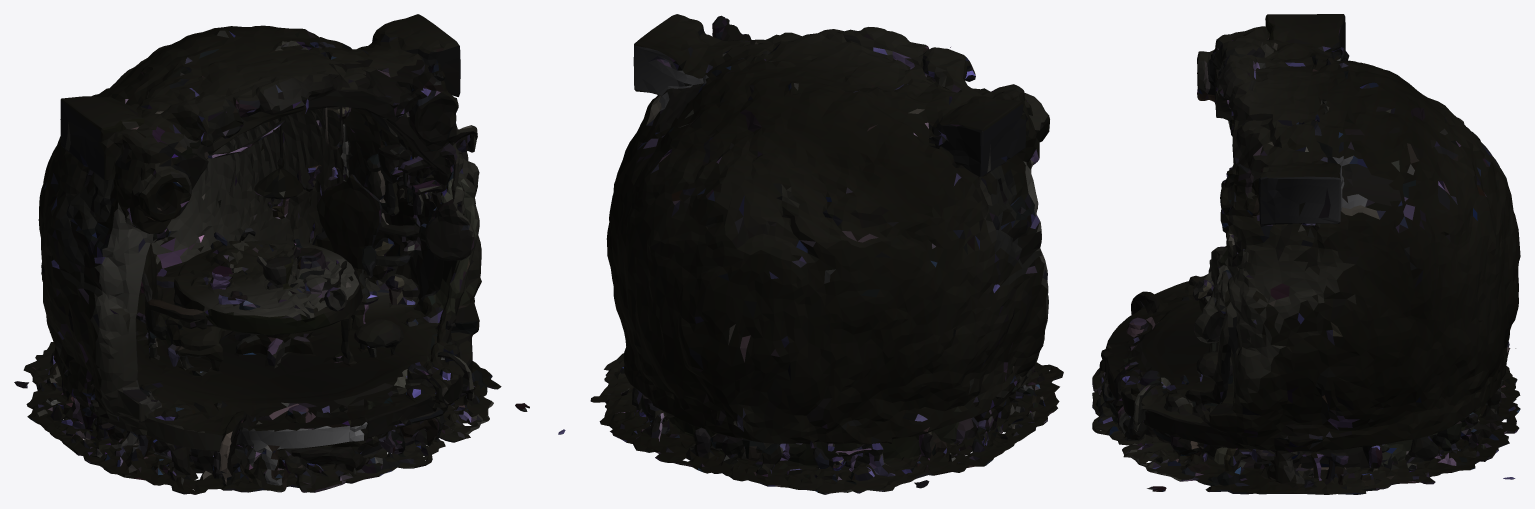
Rendered from mesa-cha-03.glb.
The picture shows the model from 3 angles, left to right: view 1: azimuth 30°, elevation 25°; view 2: azimuth 150°, elevation 25°; view 3: azimuth 270°, elevation 25°; orthographic projection. The views are drawn at different scales.
Parts seen in each view (by area): view 1: SM_Mesa_Cha_03; view 2: SM_Mesa_Cha_03; view 3: SM_Mesa_Cha_03.
Part boxes in pixels (x1,y1,x2,y2): SM_Mesa_Cha_03: [14, 14, 529, 494]; SM_Mesa_Cha_03: [558, 14, 1063, 494]; SM_Mesa_Cha_03: [1092, 14, 1520, 494].
Size of the model in its own units: 4.73 by 4 by 4.72.
1 material, 1 textured.
